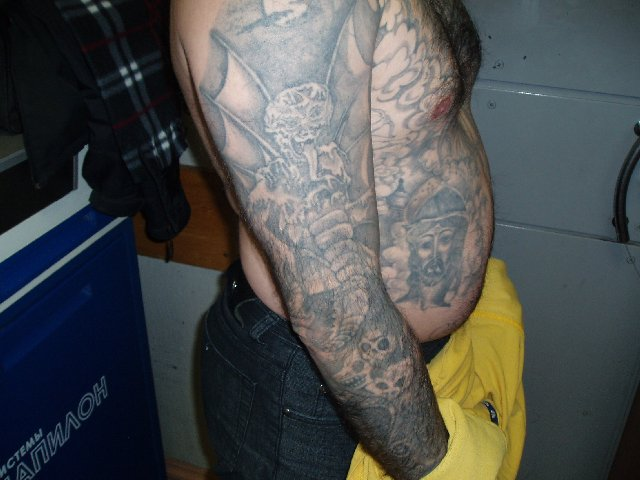tatu6_drakon: (225, 73, 411, 476)
